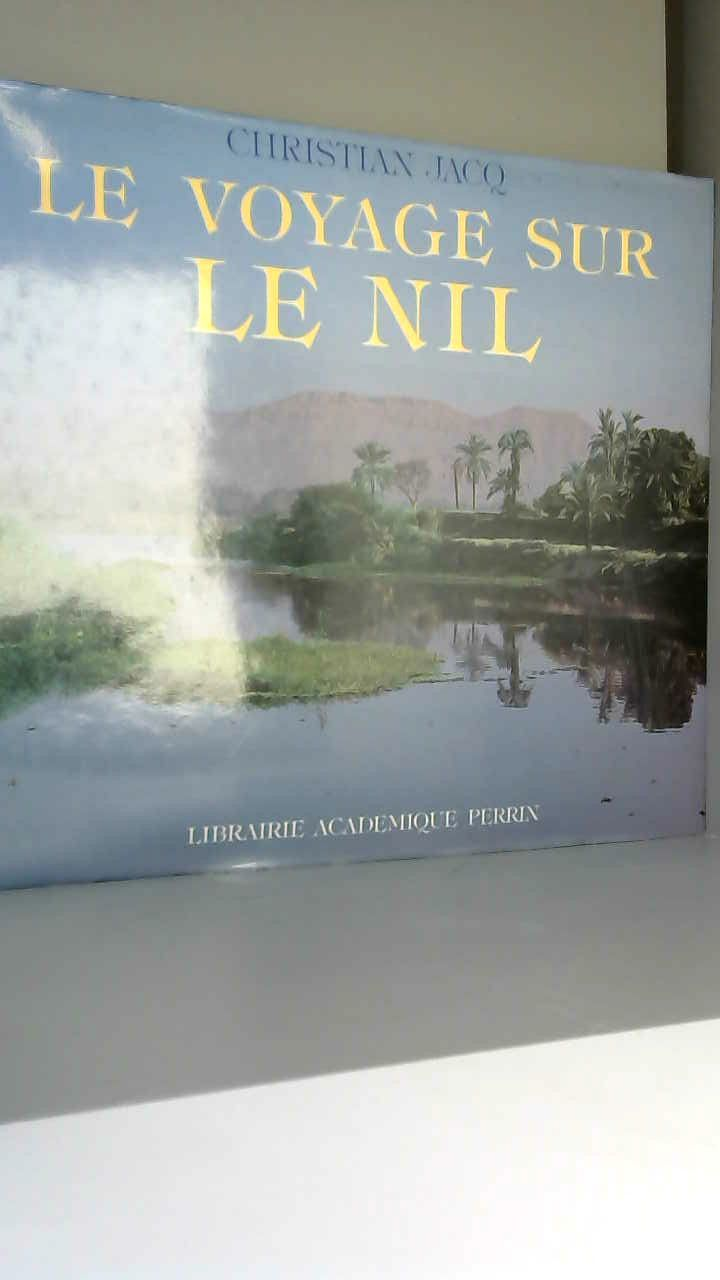book: (0, 68, 715, 908)
